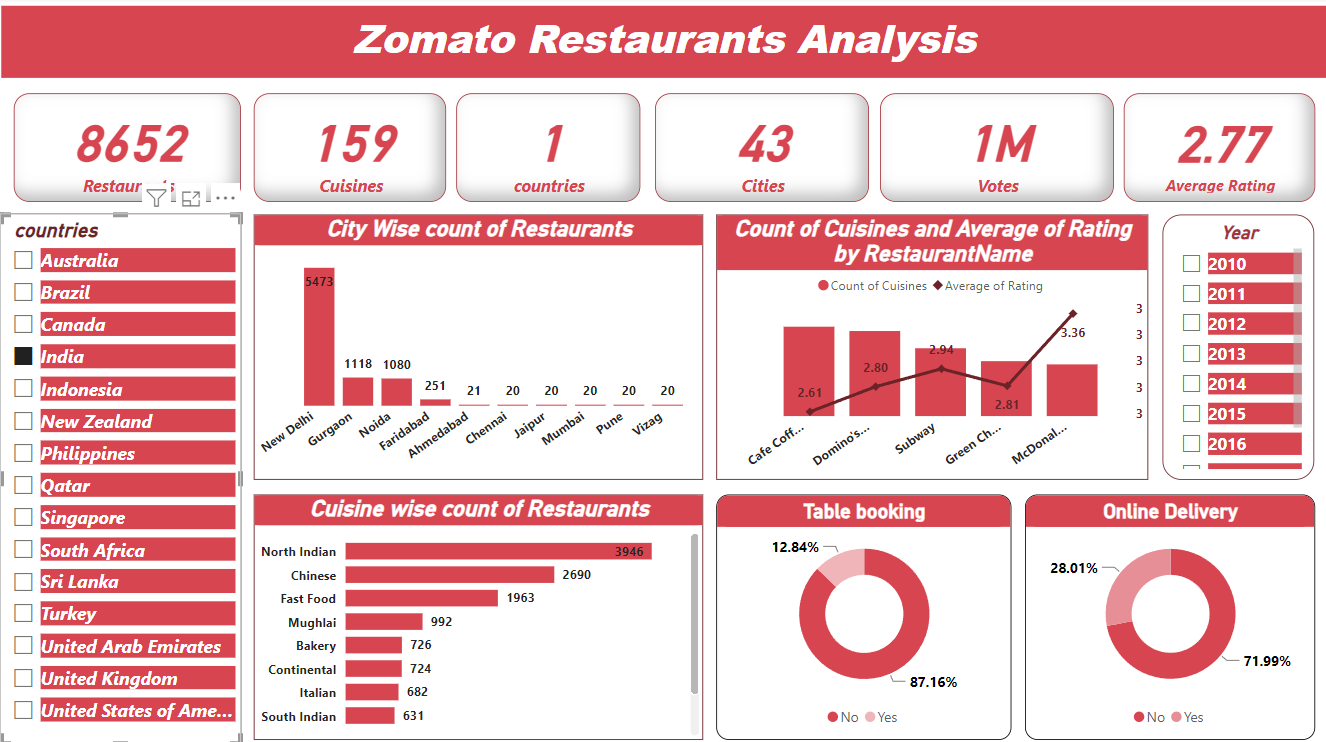

Layout of this report page (visuals, bound fields, positions):
{"tool":"powerbi","page":{"name":"Dashboard","canvas":[1280,720],"ordinal":6},"visuals":[{"type":"slicer","fields":{"Values":["Sheet2.country name"]},"box":[0,209.2,232.9,511.9],"z":0},{"type":"card","fields":{"Values":["CountNonNull(Sheet2.countryID)"]},"box":[440.2,92.9,177.3,104.9],"z":2000},{"type":"card","fields":{"Values":["Count(Sheet1.Cuisines)"]},"box":[244.8,92.9,185.7,104.9],"z":3000},{"type":"card","fields":{"Values":["Count(Sheet1.RestaurantID)"]},"box":[13.3,92.9,219.5,104.9],"z":4000},{"type":"card","fields":{"Values":["Count(Sheet1.City)"]},"box":[632,92.9,206.2,104.9],"z":5000},{"type":"textbox","box":[1.2,8.4,1279.6,69.9],"z":6000},{"type":"donutChart","title":"Table booking ","fields":{"Category":["cuisines copy.Has_Table_booking"],"Y":["CountNonNull(cuisines copy.Has_Table_booking)"]},"box":[691.4,480,284.5,236.8],"z":7000},{"type":"donutChart","title":"Online Delivery","fields":{"Category":["cuisines copy.Has_Online_delivery"],"Y":["CountNonNull(cuisines copy.Has_Online_delivery)"]},"box":[988.6,480,279.7,236.8],"z":8000},{"type":"clusteredBarChart","title":"Cuisine wise count of Restaurants","fields":{"Category":["Sheet1.Column"],"Y":["CountNonNull(Sheet1.Cuisines)"]},"box":[244.8,480,433.9,236.8],"z":9000},{"type":"columnChart","title":"City Wise count of Restaurants","fields":{"Category":["cuisines copy.City"],"Y":["CountNonNull(cuisines copy.RestaurantID)"]},"box":[244.8,209.8,433.9,255.9],"z":10000},{"type":"lineStackedColumnComboChart","fields":{"Category":["cuisines copy.RestaurantName"],"Y":["CountNonNull(cuisines copy.Cuisines)"],"Y2":["Avg(cuisines copy.Rating)"]},"box":[691.4,209.8,416.4,255.9],"z":11000},{"type":"slicer","title":"Year","fields":{"Values":["cuisines copy.new datekey.Variation.Date Hierarchy.Year"]},"box":[1122.1,209.8,146.2,255.9],"z":13000},{"type":"card","fields":{"Values":["Sum(cuisines copy.Votes)"]},"box":[849,92.9,225.5,104.9],"z":14000},{"type":"card","fields":{"Values":["Avg(cuisines copy.Rating)"]},"box":[1084.2,92.9,184.5,104.9],"z":15000}]}

Visuals, with their boxes in screenshot pixels (x1, y1, x2, y2), scaled from the page's 1280x720 canvas onto the 1326x742 screenshot:
slicer - Sheet2.country name: region(0, 216, 241, 741)
card - CountNonNull(Sheet2.countryID): region(456, 96, 640, 204)
card - Count(Sheet1.Cuisines): region(254, 96, 446, 204)
card - Count(Sheet1.RestaurantID): region(14, 96, 241, 204)
card - Count(Sheet1.City): region(655, 96, 868, 204)
textbox: region(1, 9, 1325, 81)
"Table booking " donutChart: region(716, 495, 1011, 739)
"Online Delivery" donutChart: region(1024, 495, 1314, 739)
"Cuisine wise count of Restaurants" clusteredBarChart: region(254, 495, 703, 739)
"City Wise count of Restaurants" columnChart: region(254, 216, 703, 480)
lineStackedColumnComboChart - cuisines copy.RestaurantName x CountNonNull(cuisines copy.Cuisines): region(716, 216, 1148, 480)
"Year" slicer: region(1162, 216, 1314, 480)
card - Sum(cuisines copy.Votes): region(880, 96, 1113, 204)
card - Avg(cuisines copy.Rating): region(1123, 96, 1314, 204)
